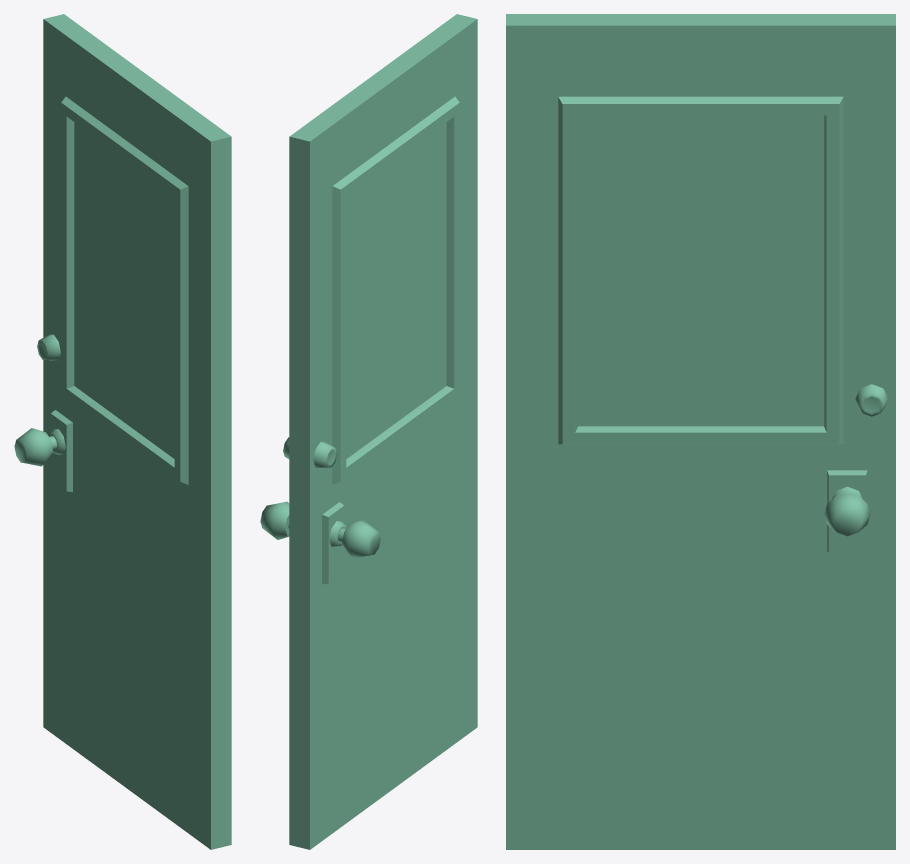
Rendered from SM_Doors.fbx.
3 renders of one model, left to right at view 1: azimuth 30°, elevation 25°; view 2: azimuth 150°, elevation 25°; view 3: azimuth 270°, elevation 25°, orthographic. The views are drawn at different scales.
Visible parts, largest first — view 1: Door, Door_Windowed; view 2: Door, Door_Windowed; view 3: Door_Windowed, Door.
Part boxes in pixels (x1,y1,x2,y2): Door: (16,15,230,849); Door_Windowed: (14,14,231,849); Door: (260,14,477,849); Door_Windowed: (272,14,477,849); Door_Windowed: (506,14,895,849); Door: (506,14,895,849).
Size of the model in its own units: 34 by 91.44 by 213.
